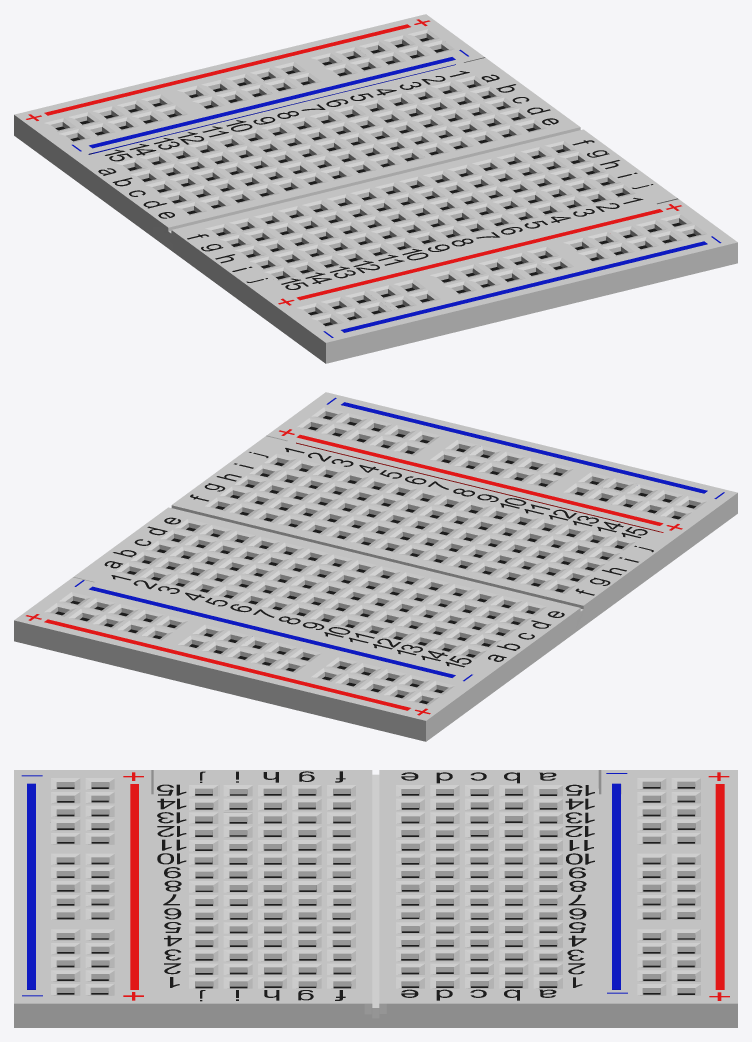
File: BreadBoard.FBX
The picture shows the model from 3 angles, top to bottom: view 1: azimuth 30°, elevation 25°; view 2: azimuth 150°, elevation 25°; view 3: azimuth 270°, elevation 25°; orthographic projection. The views are drawn at different scales.
Parts seen in each view (by area): view 1: BreadBoard, -LeftCube, -RightCube, +LeftCube, +RightCube, CenterCube2; view 2: BreadBoard, +RightCube, -RightCube, -LeftCube, +LeftCube, CenterCube3; view 3: BreadBoard, +LeftCube, CenterCube1, -RightCube, -LeftCube, +RightCube.
Boxes of the visible parts, x1,y1,x2,y2 form: BreadBoard: (14, 14, 737, 363); -LeftCube: (88, 57, 455, 154); -RightCube: (341, 241, 707, 332); +LeftCube: (44, 24, 410, 115); +RightCube: (296, 209, 662, 300); CenterCube2: (168, 127, 580, 231); BreadBoard: (14, 392, 737, 741); +RightCube: (296, 434, 663, 532); -RightCube: (341, 402, 707, 493); -LeftCube: (89, 586, 455, 677); +LeftCube: (44, 619, 410, 710); CenterCube3: (171, 505, 583, 609); BreadBoard: (14, 770, 737, 1027); +LeftCube: (715, 784, 724, 989); CenterCube1: (372, 774, 379, 1018); -RightCube: (27, 783, 35, 989); -LeftCube: (612, 783, 620, 989); +RightCube: (130, 784, 138, 989).
Bounding box in the file's own units: 20.6 × 1.13 × 27.
